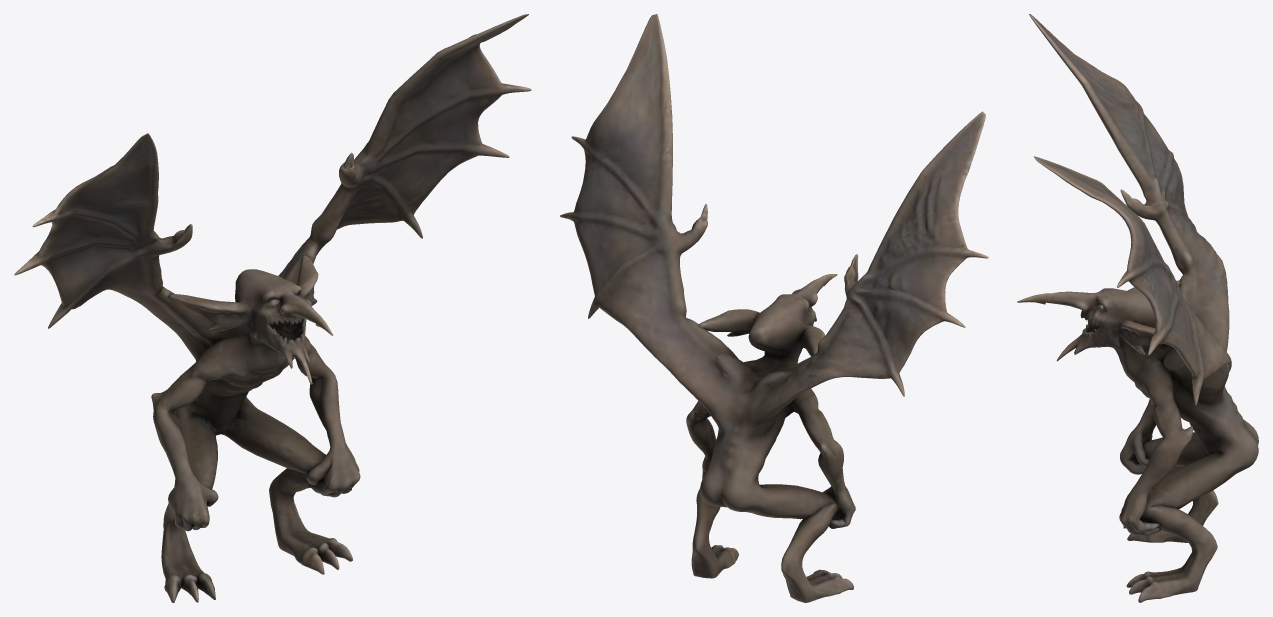
The model's file is MZ4250 - Mud Mephit_2 2025.glb.
3 views of the same model, side by side, from view 1: azimuth 30°, elevation 25°; view 2: azimuth 150°, elevation 25°; view 3: azimuth 270°, elevation 25° (orthographic). The views are drawn at different scales.
Parts seen in each view (by area): view 1: Cylinder.001; view 2: Cylinder.001; view 3: Cylinder.001.
Part boxes in pixels (bbox=[...]): Cylinder.001: bbox=[14, 14, 531, 602]; Cylinder.001: bbox=[560, 14, 988, 602]; Cylinder.001: bbox=[1017, 14, 1258, 602].
Bounding box in the file's own units: 97.43 × 106 × 46.87.
1 material, 1 textured.
